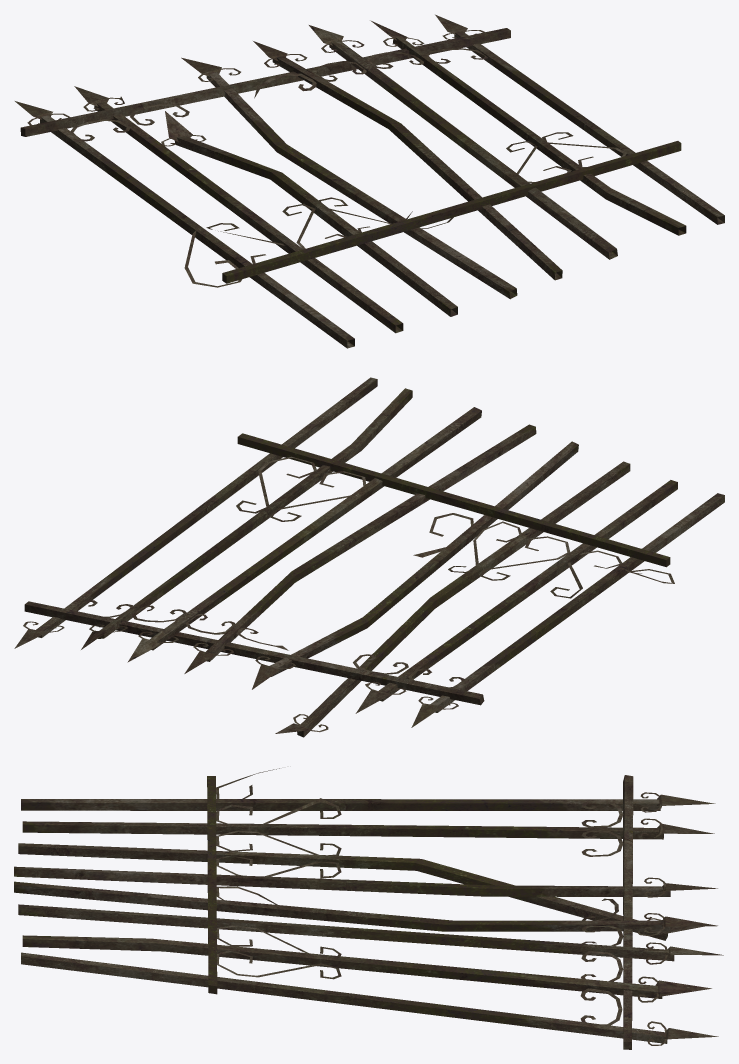
File: TI_Fence_G_02_LOD_01.fbx
3 views of the same model, one above another, from view 1: azimuth 30°, elevation 25°; view 2: azimuth 150°, elevation 25°; view 3: azimuth 270°, elevation 25° (orthographic). The views are drawn at different scales.
Parts seen in each view (by area): view 1: TI_Fence_G_02_LOD_01; view 2: TI_Fence_G_02_LOD_01; view 3: TI_Fence_G_02_LOD_01.
Boxes of the visible parts, x1,y1,x2,y2 form: TI_Fence_G_02_LOD_01: [15, 14, 724, 348]; TI_Fence_G_02_LOD_01: [14, 377, 724, 737]; TI_Fence_G_02_LOD_01: [14, 768, 723, 1049].
Bounding box in the file's own units: 3.27 × 0.6083 × 3.83.
